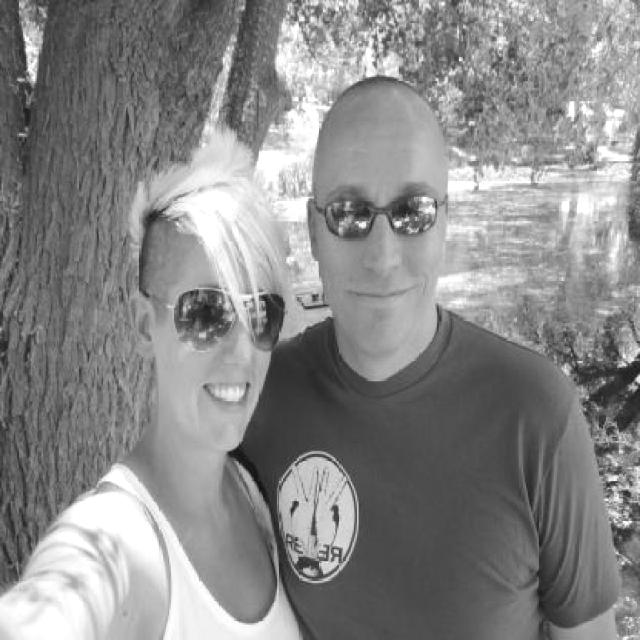face_nomask: (312, 183, 448, 319), (170, 291, 276, 417)
glasses: (152, 282, 292, 353), (306, 183, 454, 246)
head_nohelmet: (124, 165, 285, 268), (313, 72, 449, 137)
person: (248, 66, 583, 640), (0, 135, 317, 640)
